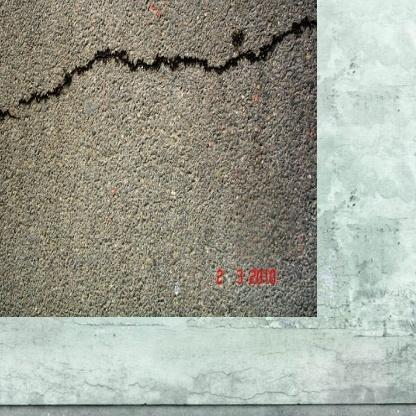Cracks: (0, 10, 293, 122)
